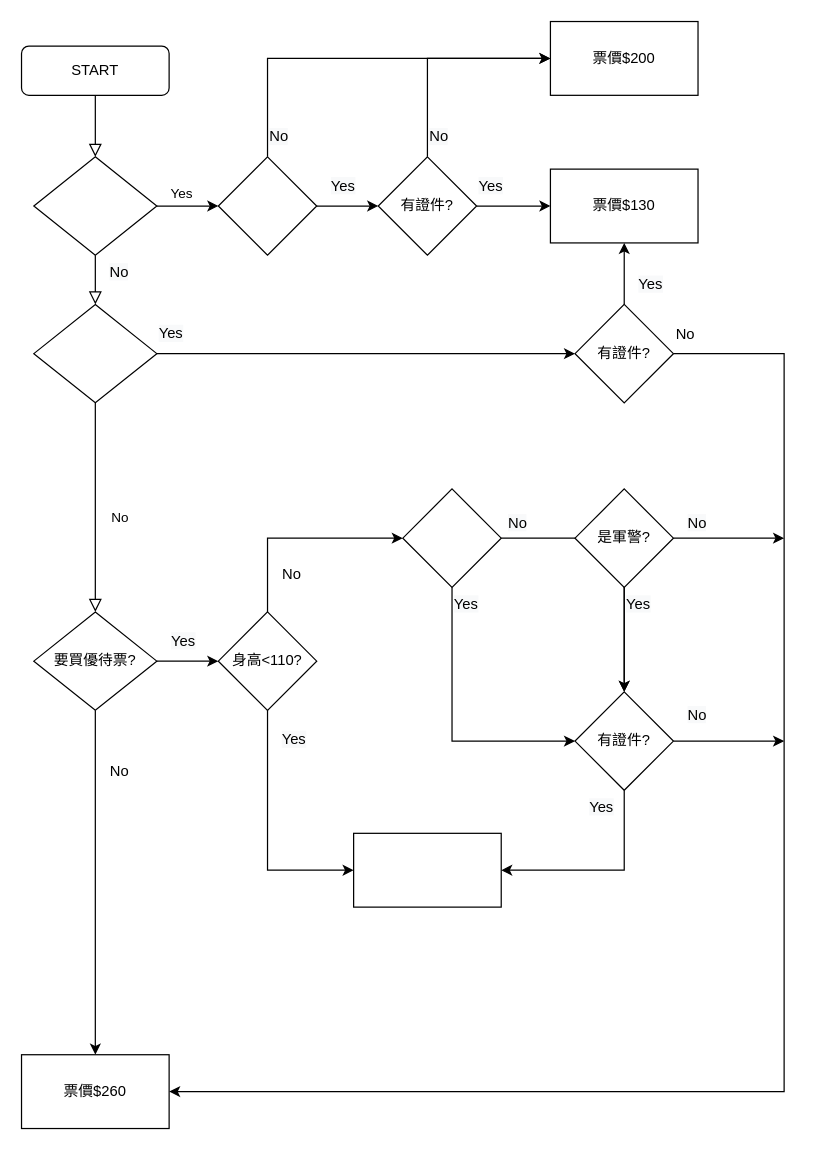
Some shapes in this 815 by 1150 pixel diagram are drawn without their labels. Each missing label, with the centre of its shape:
中午12:00前?: point (95, 205)
是學生?: point (451, 537)
票價$230: point (426, 869)
符合敬老票?: point (267, 205)
要買敬老票?: point (95, 353)
